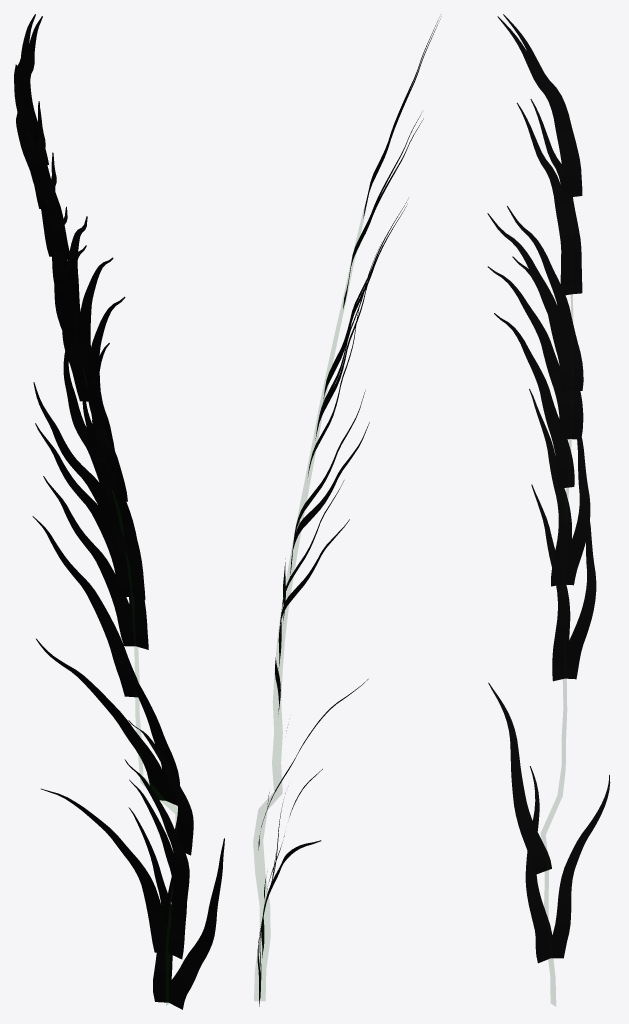
The model's file is GiantKelp.fbx.
3 views of the same model, side by side, from view 1: azimuth 30°, elevation 25°; view 2: azimuth 150°, elevation 25°; view 3: azimuth 270°, elevation 25° (orthographic). The views are drawn at different scales.
Parts seen in each view (by area): view 1: kelp1Leaf, kelp1Main; view 2: kelp1Leaf, kelp1Main; view 3: kelp1Leaf, kelp1Main.
Boxes of the visible parts, left/top/right/bottom form: kelp1Leaf: left=14, top=14, right=224, bottom=1009; kelp1Main: left=84, top=374, right=177, bottom=1005; kelp1Leaf: left=257, top=19, right=440, bottom=1006; kelp1Main: left=253, top=209, right=364, bottom=1000; kelp1Leaf: left=487, top=14, right=610, bottom=963; kelp1Main: left=541, top=197, right=572, bottom=1005.
Bounding box in the file's own units: 0.3654 × 1.89 × 0.2566.
